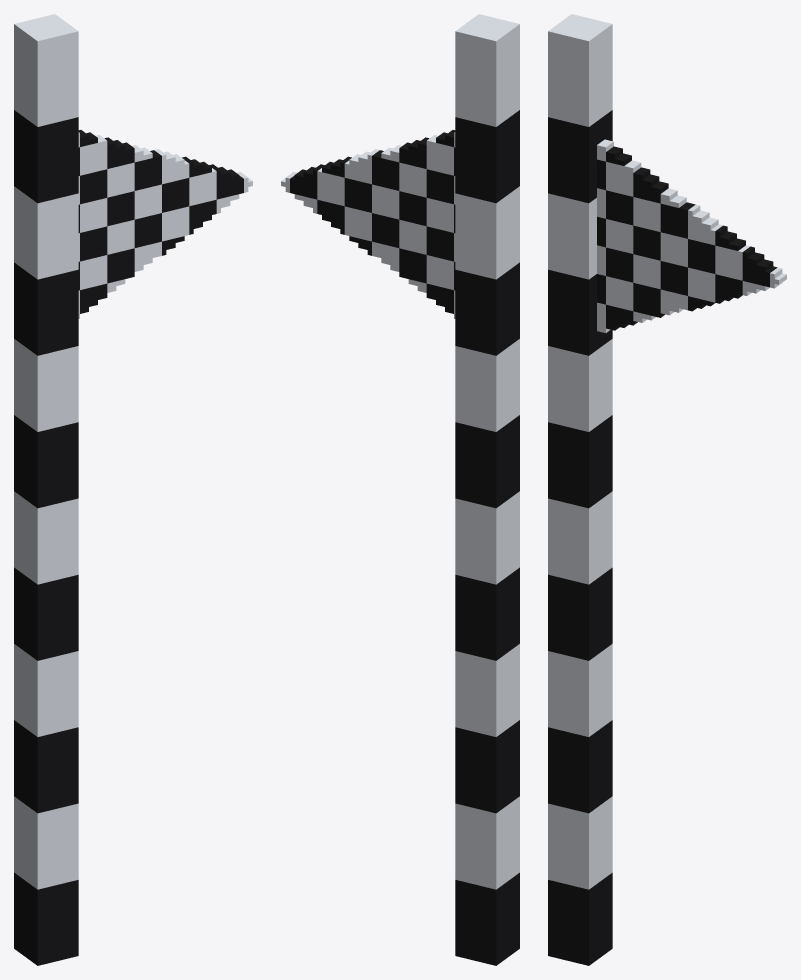
The model's file is gate_pole_start.obj.
3 views of the same model, side by side, from view 1: azimuth 30°, elevation 25°; view 2: azimuth 150°, elevation 25°; view 3: azimuth 330°, elevation 25° (orthographic).
Bounding box in the file's own units: 1.23 × 4.85 × 0.225.
Materials: 1 (1 with a texture image).
